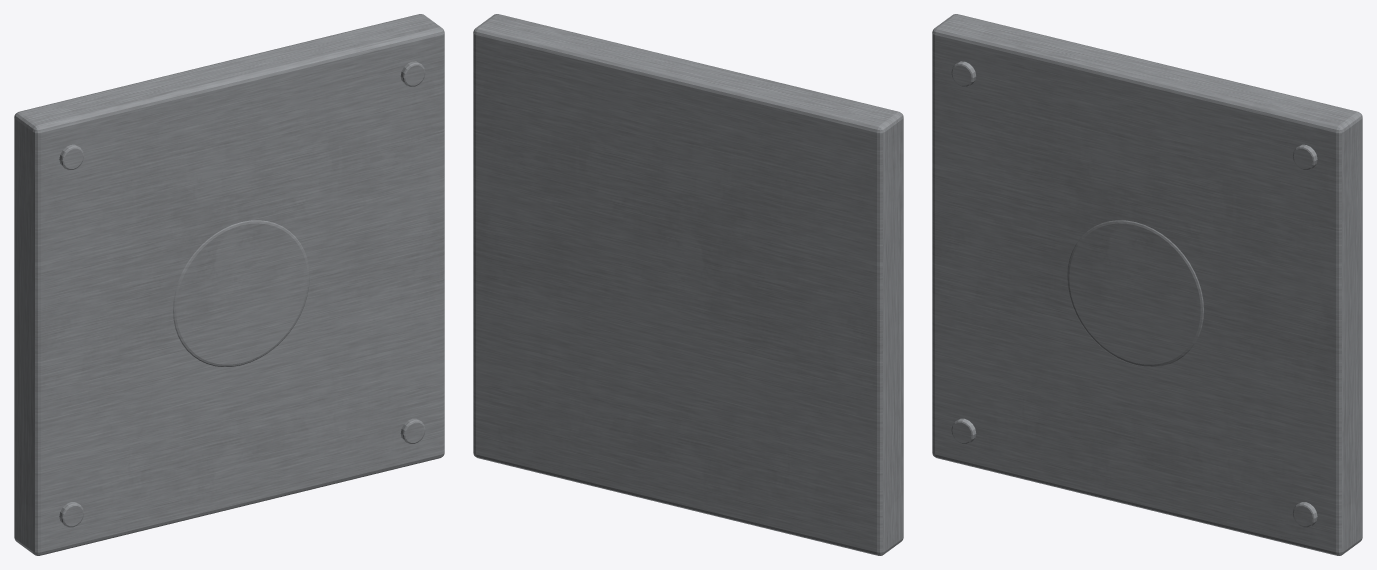
Rendered from button_panel_vis.obj.
The picture shows the model from 3 angles, left to right: view 1: azimuth 30°, elevation 25°; view 2: azimuth 150°, elevation 25°; view 3: azimuth 330°, elevation 25°; orthographic projection.
Bounding box in the file's own units: 0.2 × 0.2 × 0.0225.
Materials: 1 (1 with a texture image).
